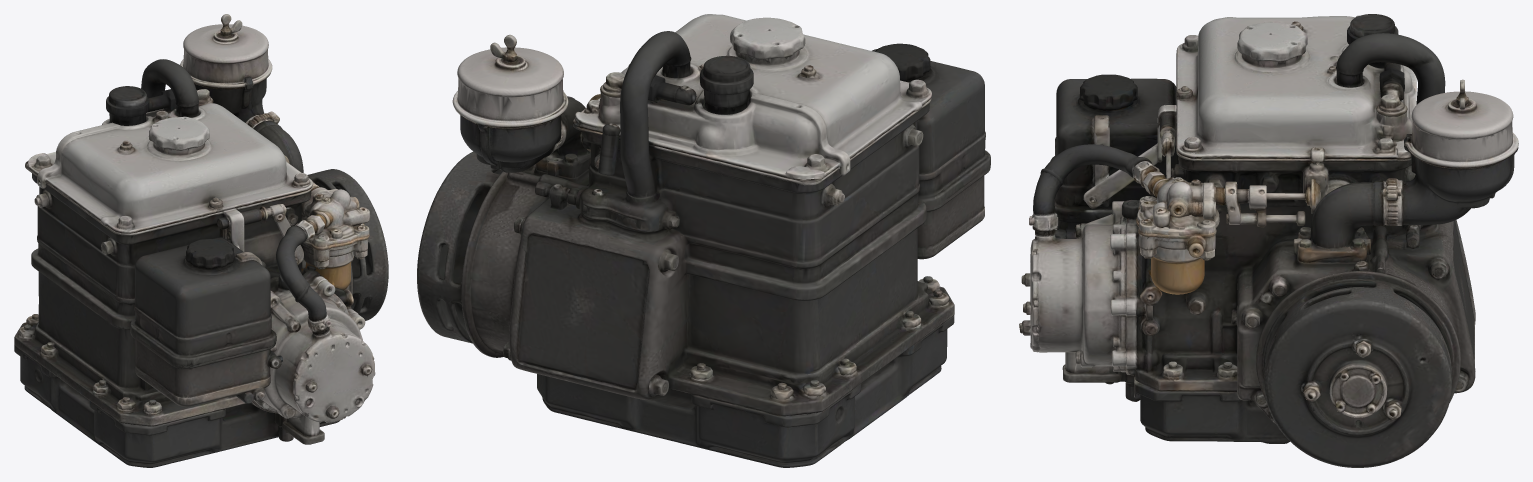
File: motor.glb
3 views of the same model, side by side, from view 1: azimuth 30°, elevation 25°; view 2: azimuth 150°, elevation 25°; view 3: azimuth 270°, elevation 25° (orthographic). The views are drawn at different scales.
Parts seen in each view (by area): view 1: tripo_node_741ce54a-d785-42c1-bca2-f0c7c51f730e; view 2: tripo_node_741ce54a-d785-42c1-bca2-f0c7c51f730e; view 3: tripo_node_741ce54a-d785-42c1-bca2-f0c7c51f730e.
Boxes of the visible parts, <box> form: tripo_node_741ce54a-d785-42c1-bca2-f0c7c51f730e: <box>14,14,388,467</box>; tripo_node_741ce54a-d785-42c1-bca2-f0c7c51f730e: <box>417,14,990,467</box>; tripo_node_741ce54a-d785-42c1-bca2-f0c7c51f730e: <box>1019,14,1518,467</box>.
Bounding box in the file's own units: 0.8858 × 0.8053 × 0.9813.
1 material, 1 textured.
